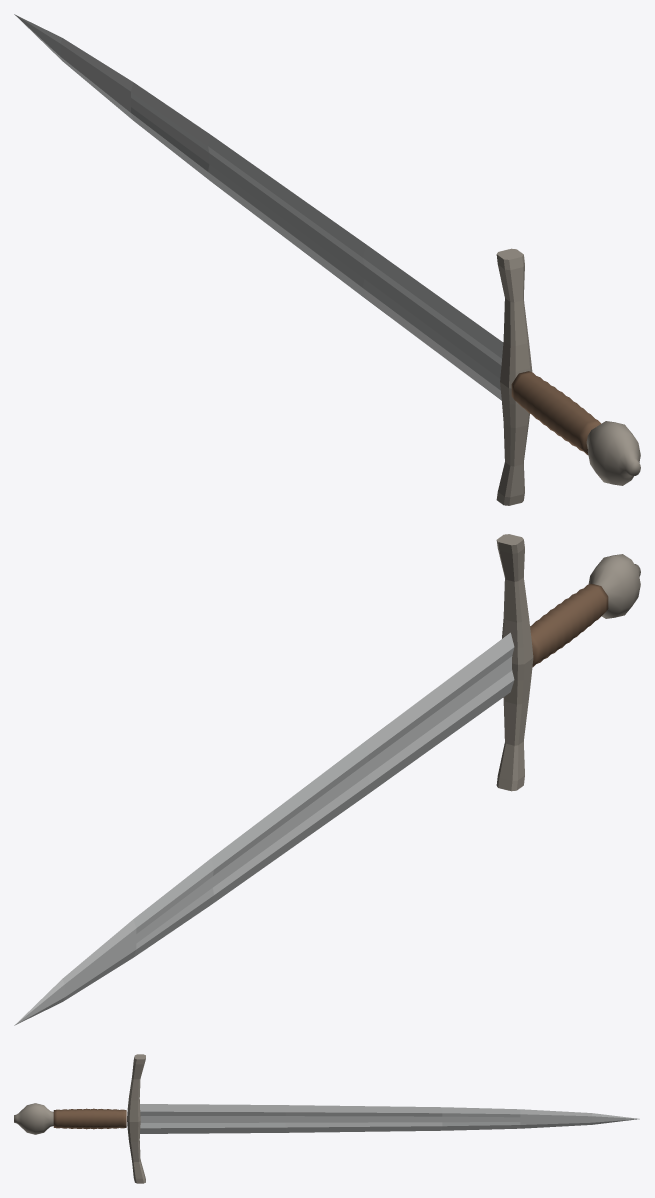
Rendered from held-sword.glb.
3 renders of one model, top to bottom at view 1: azimuth 30°, elevation 25°; view 2: azimuth 150°, elevation 25°; view 3: azimuth 270°, elevation 25°, orthographic. The views are drawn at different scales.
Visible parts, largest first — view 1: blade, guard, grip, pommel; view 2: blade, guard, grip, pommel; view 3: blade, guard, grip, pommel.
Part boxes in pixels (x1,y1,x2,y2): blade: (14, 14, 503, 400); guard: (496, 248, 532, 505); grip: (511, 371, 601, 454); pommel: (586, 421, 640, 485); blade: (14, 632, 514, 1025); guard: (496, 534, 533, 791); grip: (530, 583, 608, 667); pommel: (588, 554, 640, 618); blade: (140, 1104, 639, 1133); guard: (127, 1054, 145, 1183); grip: (53, 1108, 126, 1129); pommel: (14, 1103, 53, 1134).
Size of what is drawn, in the model's own units: 0.0374 by 0.21 by 0.962.
